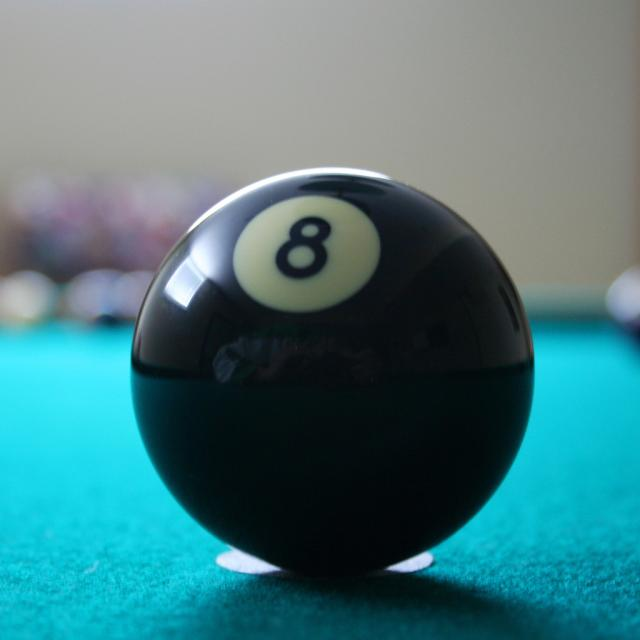Ball: (130, 168, 536, 575)
